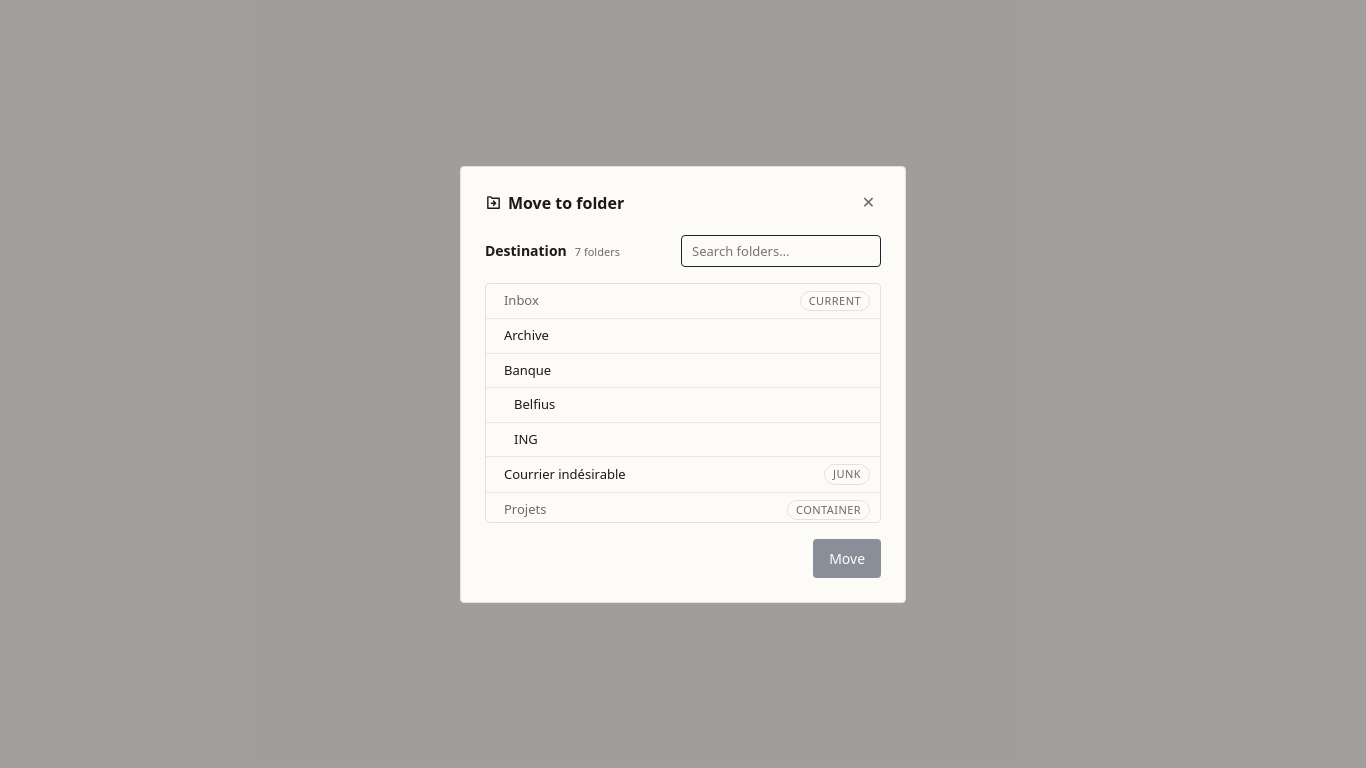
Test: MoveMessagesModal › drops a selection the query has filtered off-screen
Click the button "Archive" at point(526, 335), box [486, 319, 880, 354]
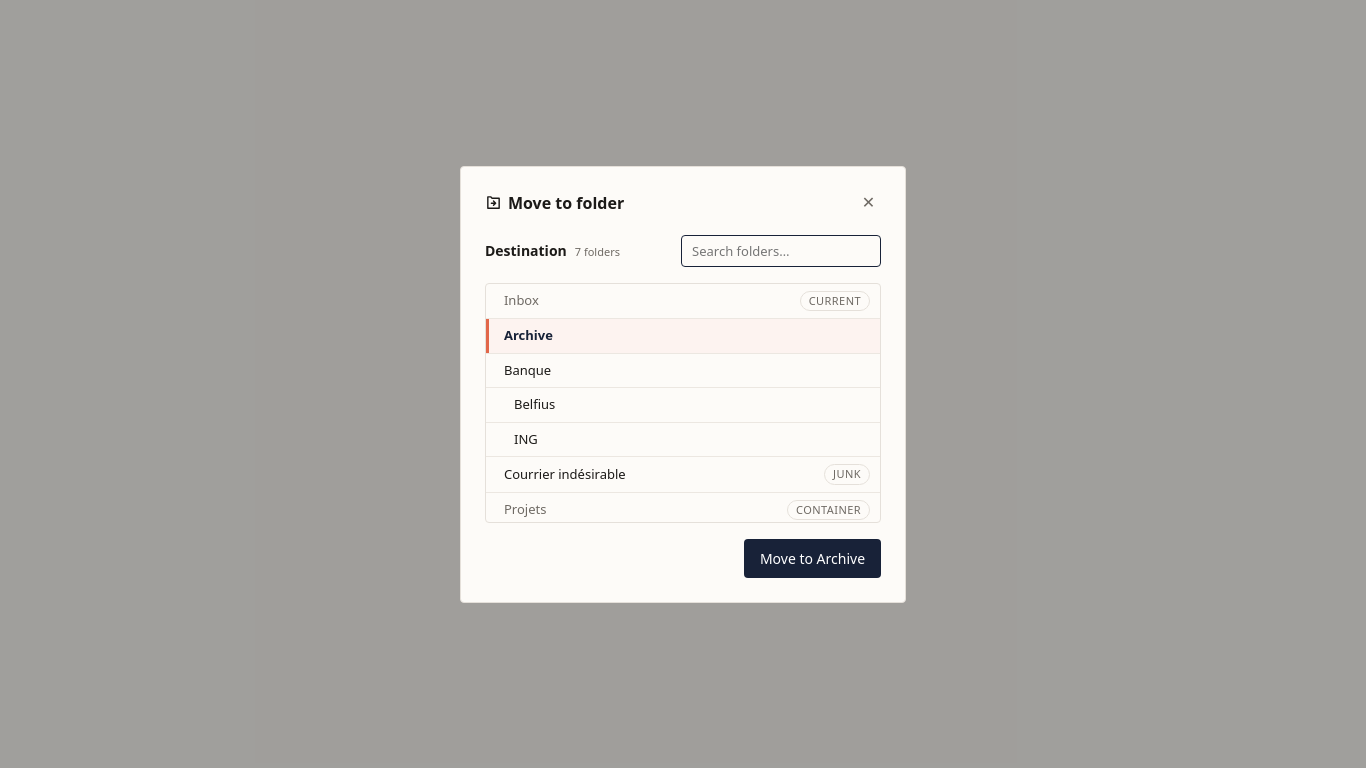
Type "bel" into the search field labelled "Search folders" at point(781, 250), box [681, 234, 881, 266]
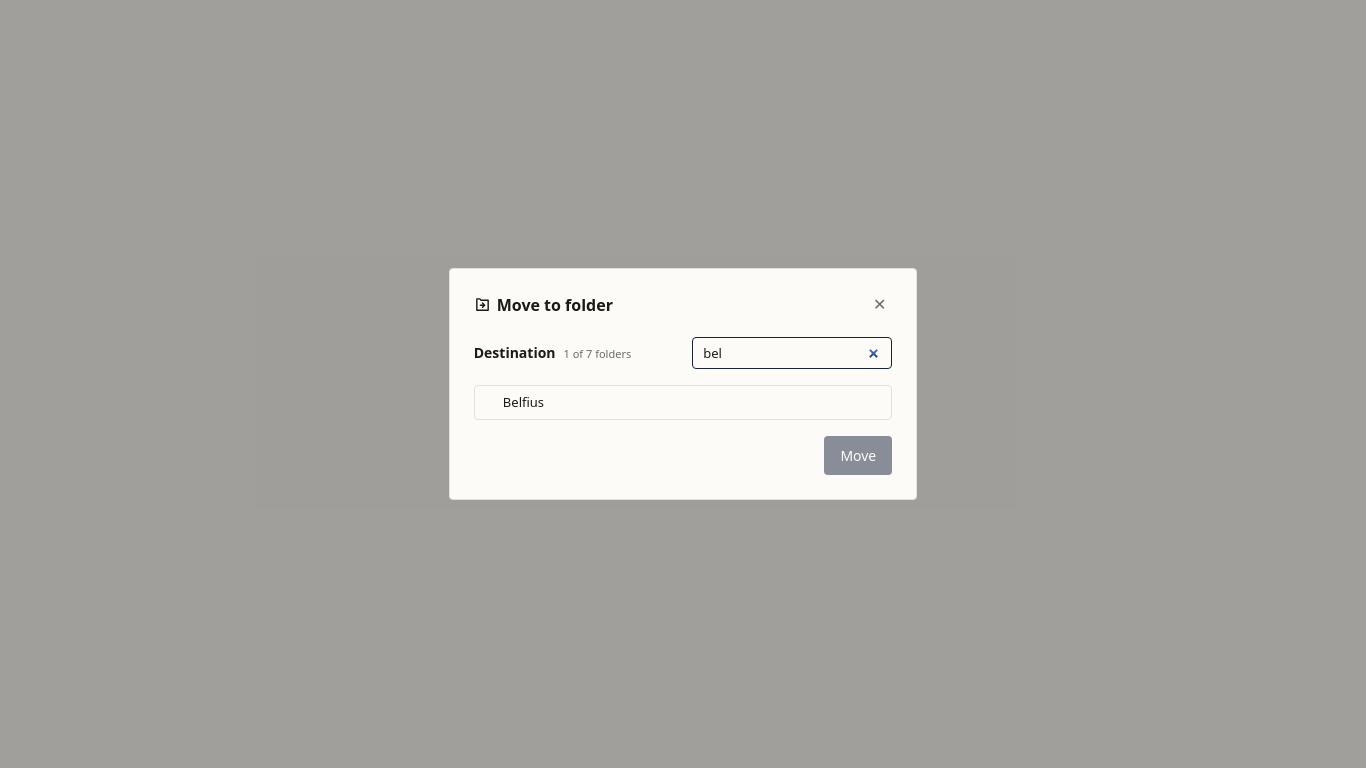
Check: the button "Move" is disabled, box [824, 436, 892, 475]
